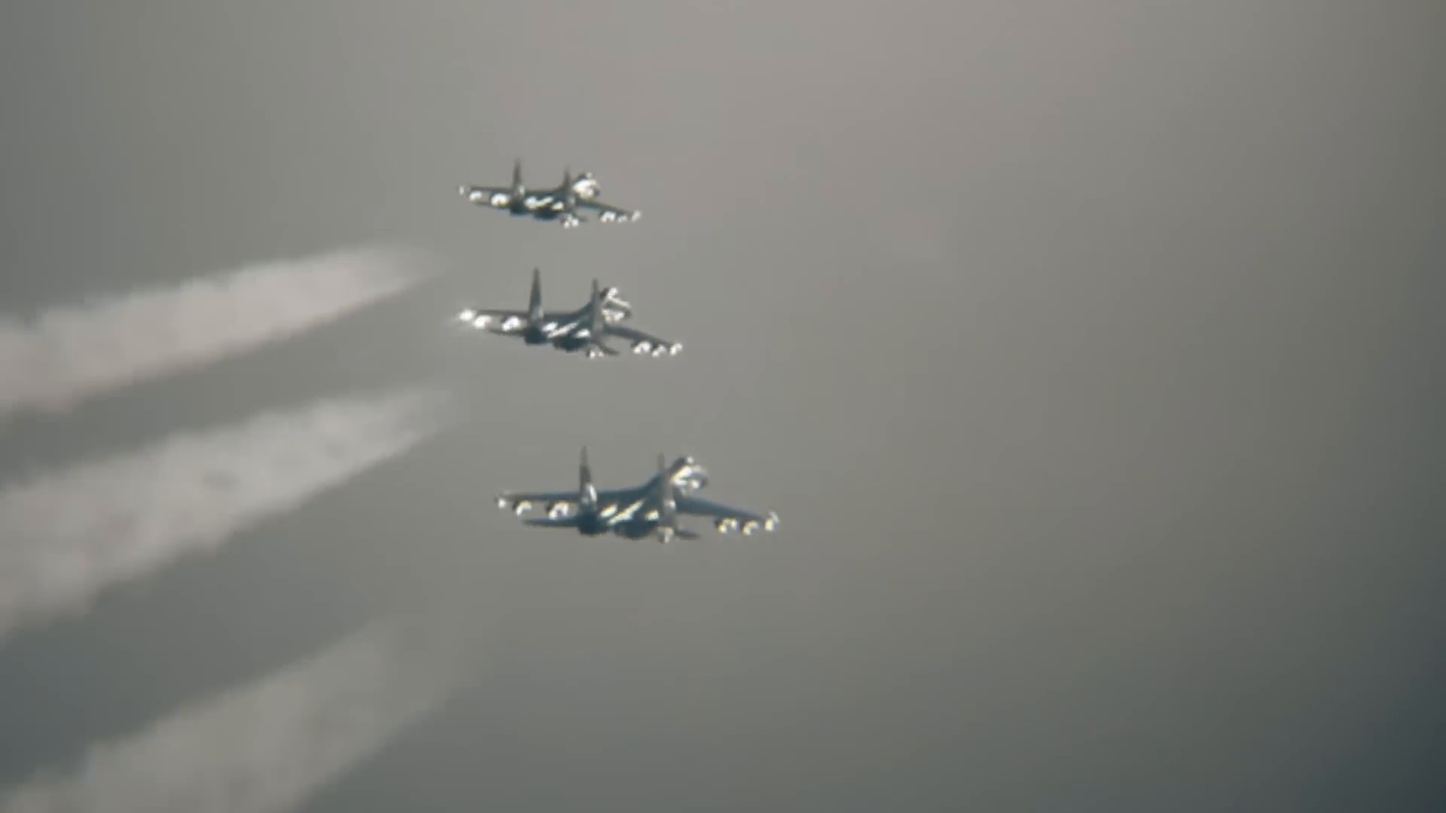Su35: (493, 443, 780, 544), (454, 267, 683, 360), (459, 155, 641, 230)
